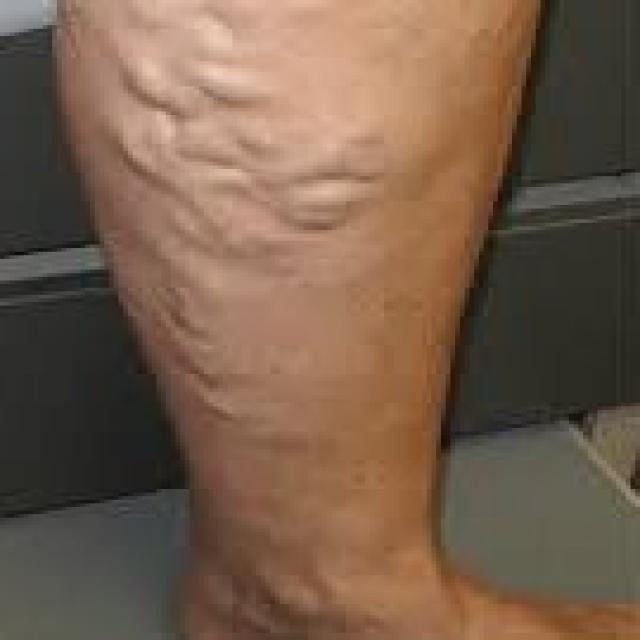Varicose: (54, 13, 508, 505)
